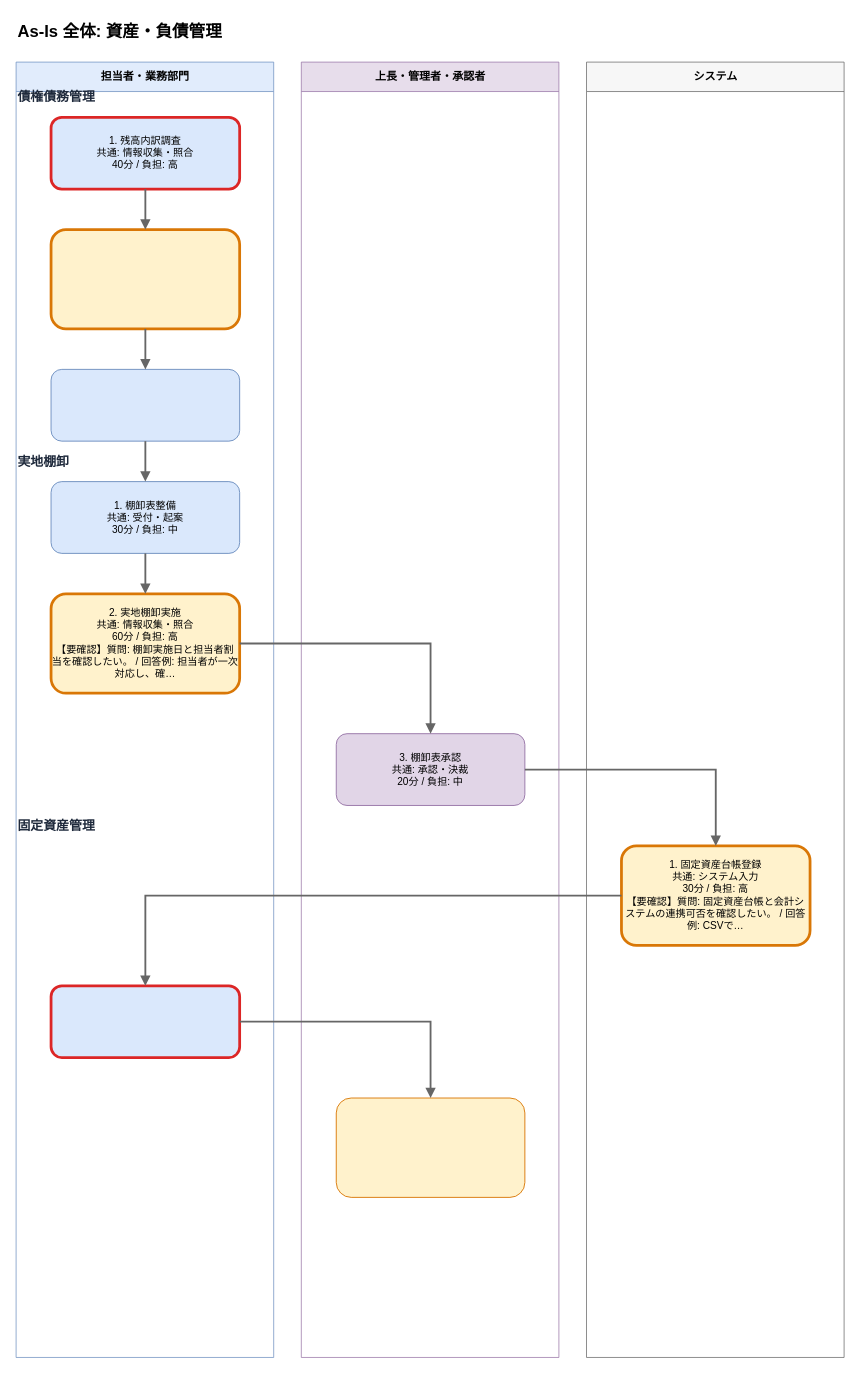
Image size: 860x1374. Some labels were removed from this diagram. Here are the shapes that lost their labels. From the top down, the centre of each, then its label:
point (145, 279): 2. 取引先残高確認 共通: 内容確認 30分 / 負担: 高 【要確認】質問: 取引先残高確認の対象基準を確認したい。 / 回答例: 担当者が処理し、必要…
point (145, 404): 3. 報告・措置 共通: 報告・提出 20分 / 負担: 中
point (145, 1021): 2. 固定資産現物確認 共通: 情報収集・照合 60分 / 負担: 高
point (430, 1147): 3. 除却承認 共通: 承認・決裁 25分 / 負担: 中 【要確認】質問: 除却時の稟議・台帳更新フローを確認したい。 / 回答例: 担当者が作成し、…
